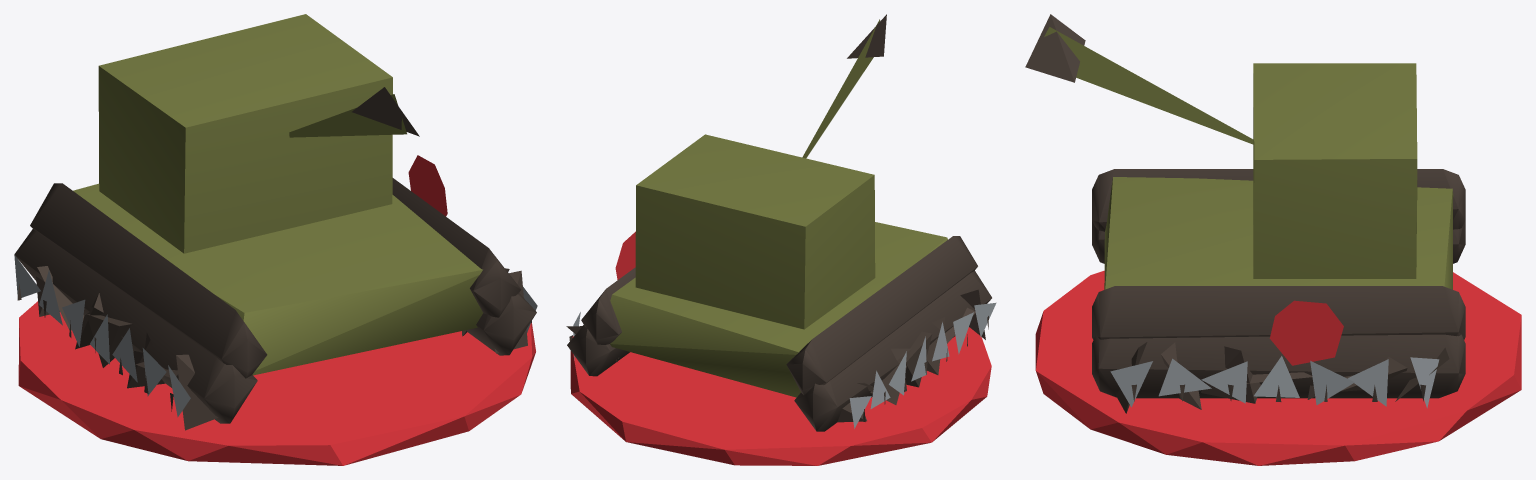
File: japan_artillery_lod1.glb
3 renders of one model, left to right at view 1: azimuth 30°, elevation 25°; view 2: azimuth 150°, elevation 25°; view 3: azimuth 270°, elevation 25°, orthographic. The views are drawn at different scales.
Parts seen in each view (by area): view 1: body_hull, base_pedestal; view 2: body_hull, base_pedestal; view 3: body_hull, base_pedestal.
Boxes of the visible parts, x1,y1,x2,y2 form: body_hull: [14, 14, 537, 430]; base_pedestal: [18, 301, 535, 465]; body_hull: [566, 14, 996, 431]; base_pedestal: [570, 327, 991, 465]; body_hull: [1025, 14, 1465, 413]; base_pedestal: [1035, 270, 1521, 465].
Bounding box in the file's own units: 0.7709 × 0.5914 × 0.7767.
